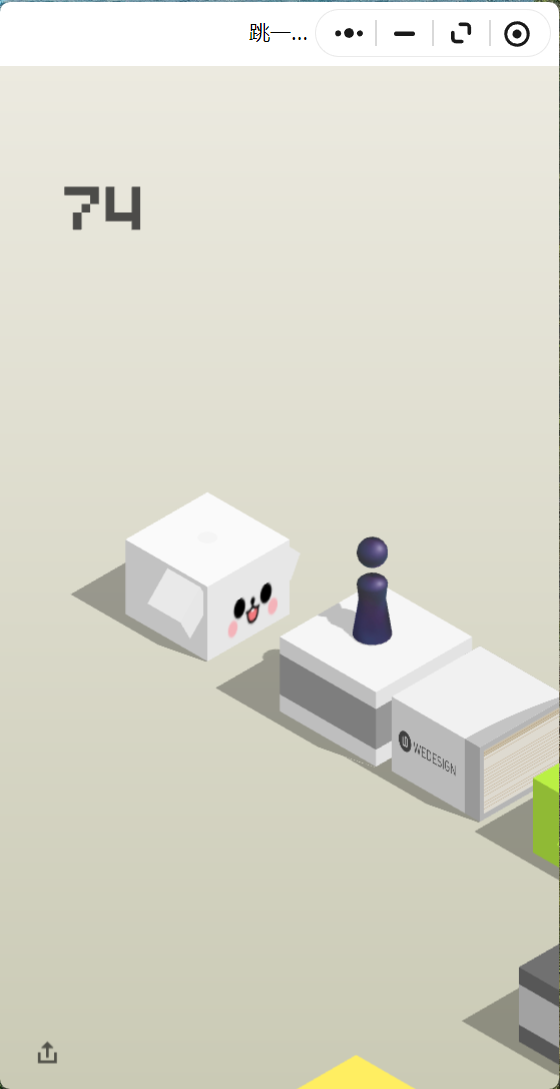piece: (357, 536, 387, 640)
target: (126, 492, 290, 587)
